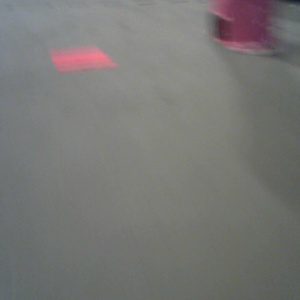right: (206, 1, 281, 57)
